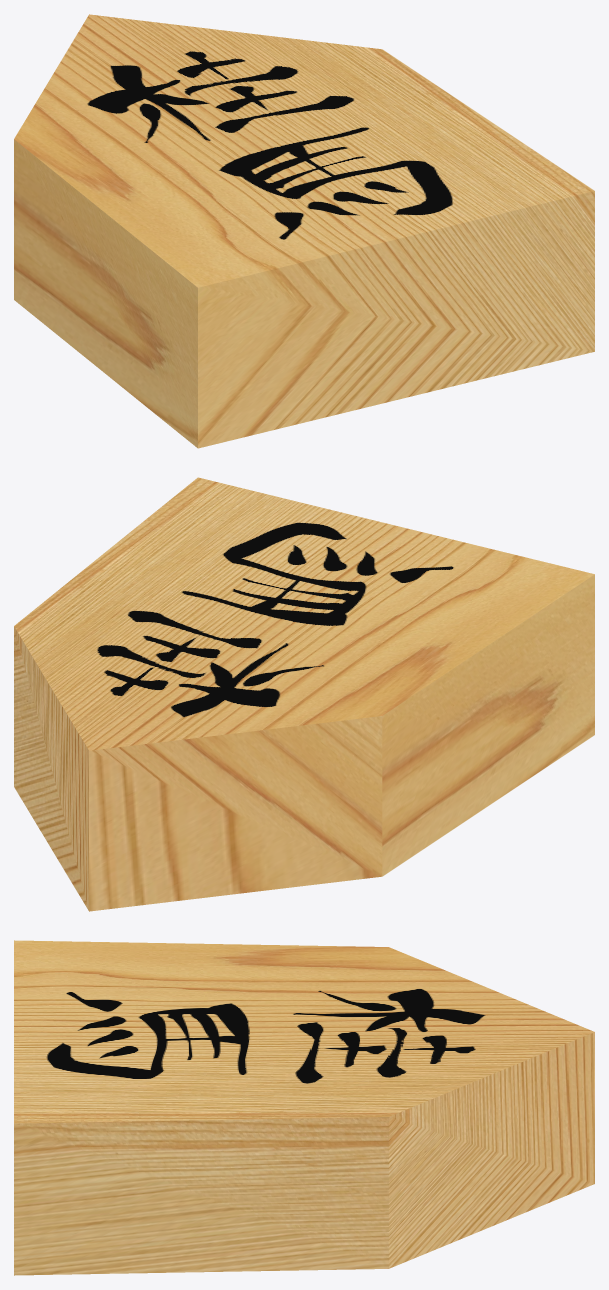
File: koma_keima.gltf
The picture shows the model from 3 angles, top to bottom: view 1: azimuth 30°, elevation 25°; view 2: azimuth 150°, elevation 25°; view 3: azimuth 270°, elevation 25°; orthographic projection. The views are drawn at different scales.
Parts seen in each view (by area): view 1: Cylinder; view 2: Cylinder; view 3: Cylinder.
Part boxes in pixels (left/top/right/bottom): Cylinder: left=14, top=14, right=594, bottom=448; Cylinder: left=14, top=477, right=594, bottom=911; Cylinder: left=14, top=940, right=594, bottom=1275.
Size of the model in its own units: 1.29 by 0.5 by 1.73.
Materials: 1 (1 with a texture image).
